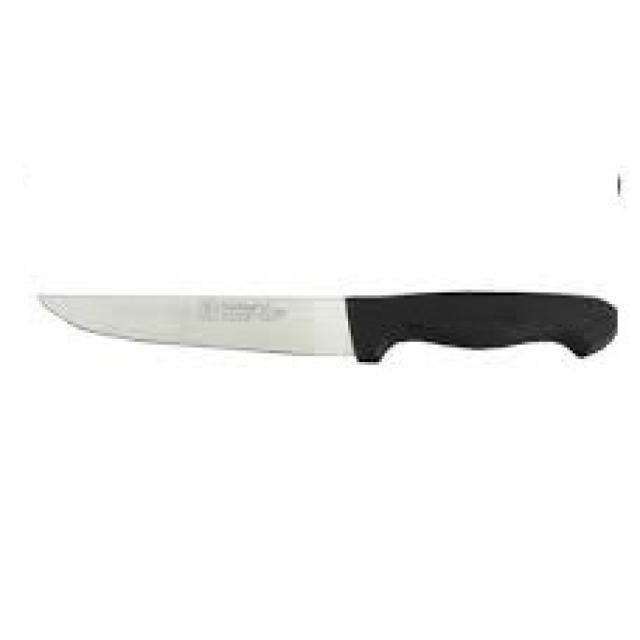knife: (34, 284, 626, 372)
